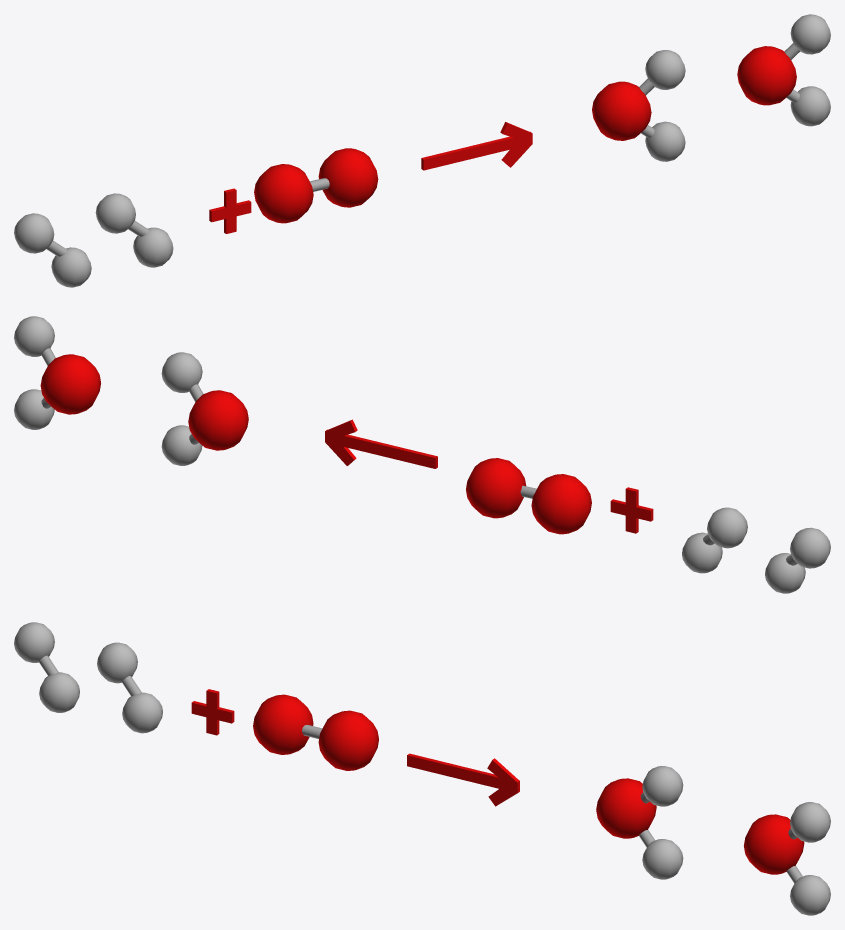
File: formula1.fbx
The picture shows the model from 3 angles, top to bottom: view 1: azimuth 30°, elevation 25°; view 2: azimuth 150°, elevation 25°; view 3: azimuth 330°, elevation 25°; orthographic projection.
Parts seen in each view (by area): view 1: formula; view 2: formula; view 3: formula.
Boxes of the visible parts, box(x1,y1,x2,y2) form: formula: box(14, 14, 830, 287); formula: box(14, 316, 830, 593); formula: box(14, 622, 830, 915).
Bounding box in the file's own units: 222 × 28.59 × 13.61.
